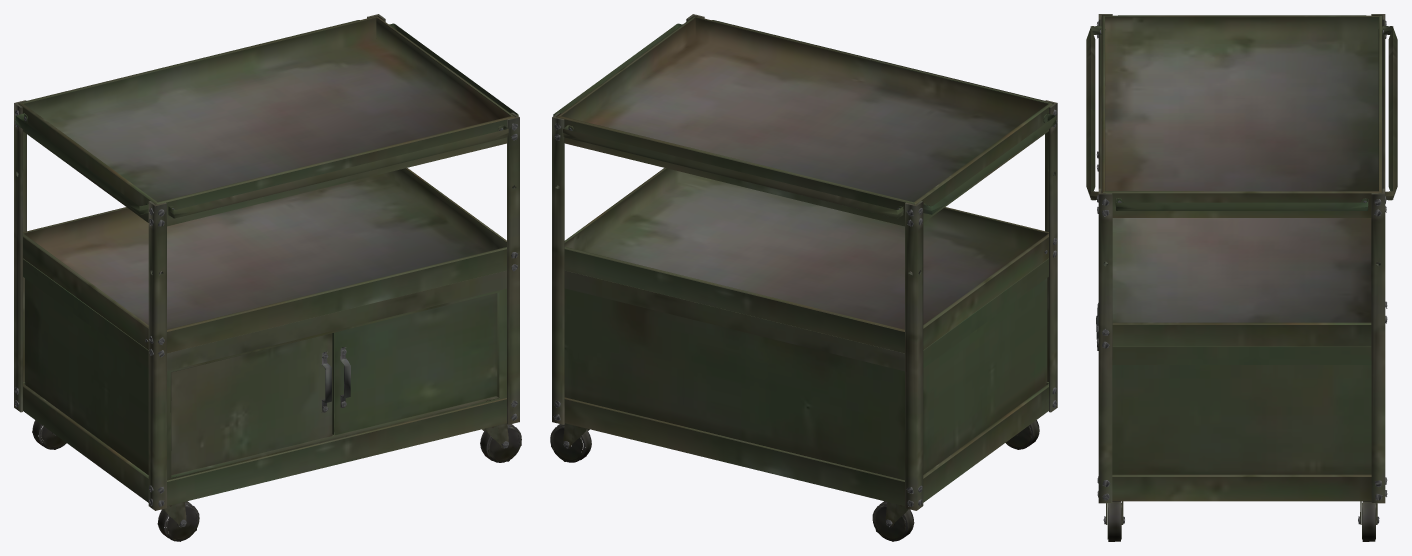
The model's file is industrial_storage_cart.glb.
3 views of the same model, side by side, from view 1: azimuth 30°, elevation 25°; view 2: azimuth 150°, elevation 25°; view 3: azimuth 270°, elevation 25° (orthographic).
Parts seen in each view (by area): view 1: industrial_storage_cart; view 2: industrial_storage_cart; view 3: industrial_storage_cart.
Boxes of the visible parts, x1,y1,x2,y2 form: industrial_storage_cart: (14,14,521,541); industrial_storage_cart: (550,14,1057,541); industrial_storage_cart: (1086,14,1397,541).
Size of the model in its own units: 1.61 by 1.38 by 1.11.
Materials: 1 (1 with a texture image).
